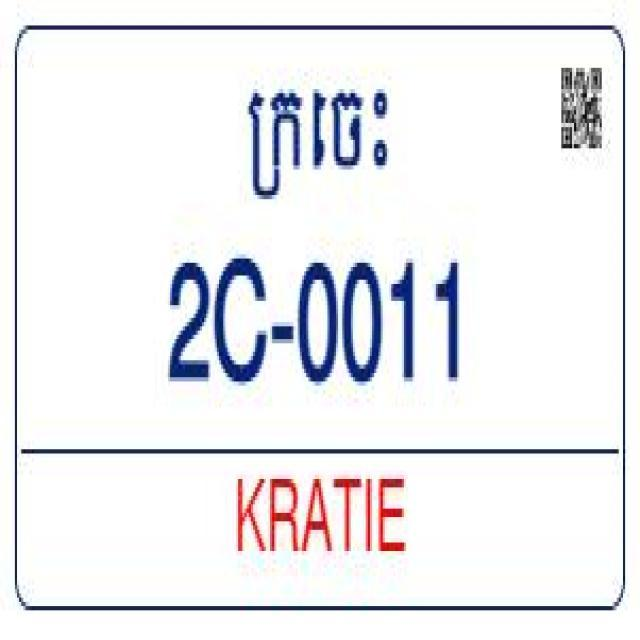Kratie: (228, 68, 397, 226)
